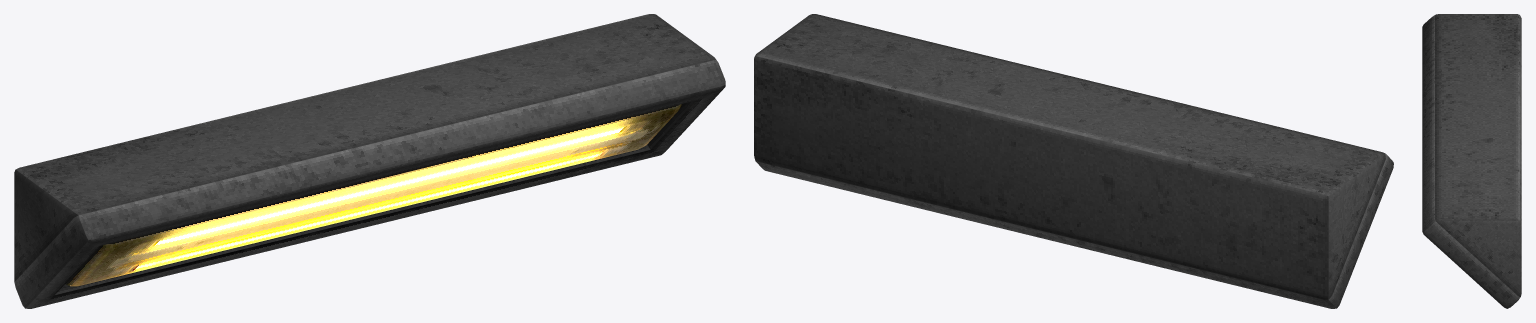
Rendered from lamp_3.glb.
3 renders of one model, left to right at view 1: azimuth 30°, elevation 25°; view 2: azimuth 150°, elevation 25°; view 3: azimuth 270°, elevation 25°, orthographic. The views are drawn at different scales.
Visible parts, largest first — view 1: lamp_3; view 2: lamp_3; view 3: lamp_3.
Boxes of the visible parts, x1,y1,x2,y2 form: lamp_3: (14, 14, 725, 308); lamp_3: (754, 14, 1393, 308); lamp_3: (1422, 14, 1521, 308).
Size of the model in its own units: 1.2 by 0.2425 by 0.2428.
Materials: 1 (1 with a texture image).
